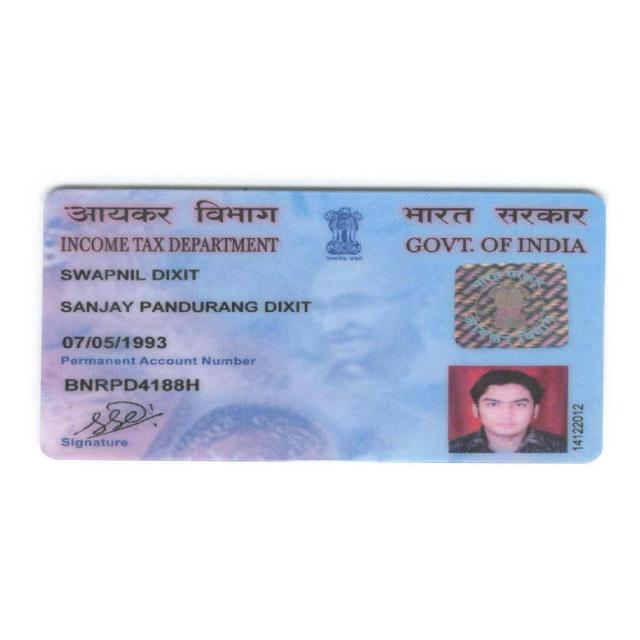pan_card: (46, 189, 596, 458)
